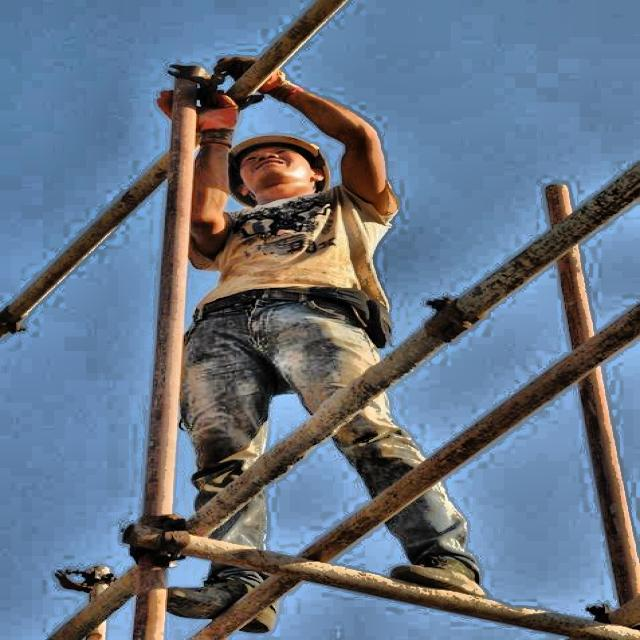helmet: (197, 96, 358, 221)
